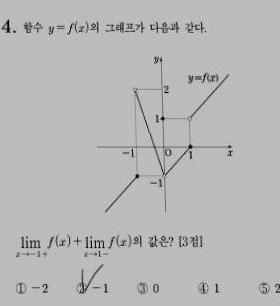choice: (73, 275, 91, 296)
not-choice: (196, 281, 211, 296), (135, 280, 149, 296), (257, 280, 271, 296), (13, 281, 27, 296)
